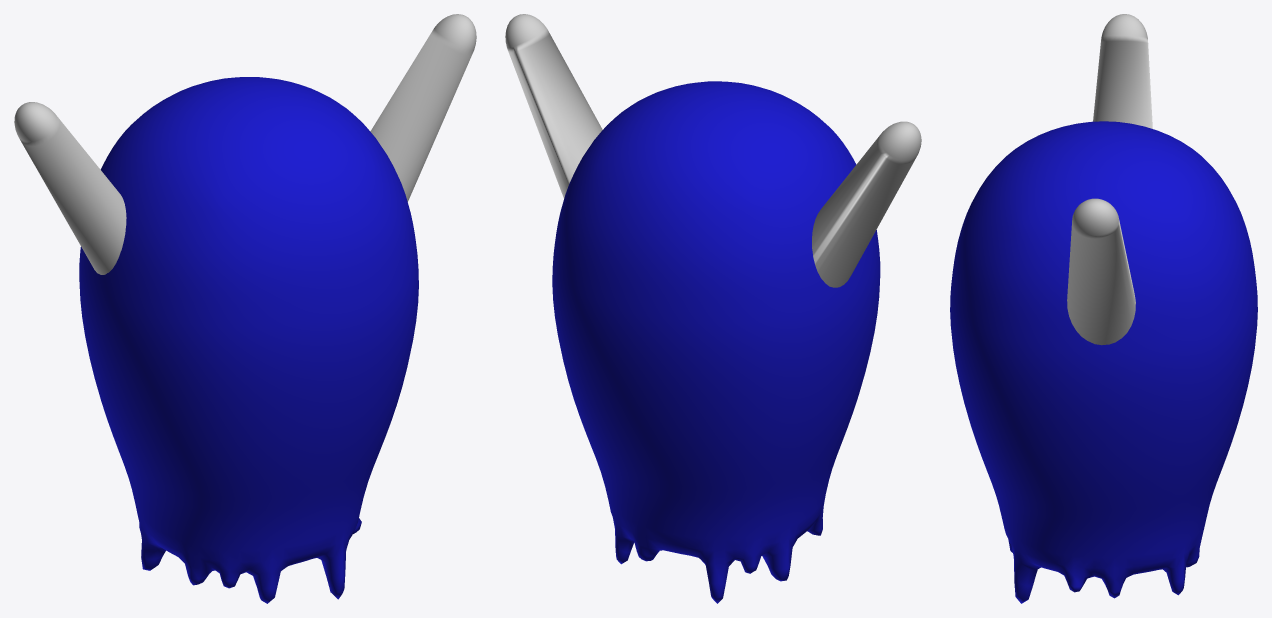
Rendered from beforeThrow_000025.obj.
3 views of the same model, side by side, from view 1: azimuth 30°, elevation 25°; view 2: azimuth 150°, elevation 25°; view 3: azimuth 270°, elevation 25° (orthographic). The views are drawn at different scales.
Parts seen in each view (by area): view 1: Cube, Sphere.001, Sphere; view 2: Cube, Sphere.001, Sphere; view 3: Cube, Sphere, Sphere.001.
Part boxes in pixels (box(x1,y1,x2,y2)): Cube: box(79, 77, 418, 603); Sphere.001: box(14, 102, 126, 274); Sphere: box(370, 14, 476, 201); Cube: box(552, 81, 880, 603); Sphere.001: box(812, 121, 921, 287); Sphere: box(505, 14, 602, 198); Cube: box(950, 121, 1257, 603); Sphere: box(1067, 198, 1135, 345); Sphere.001: box(1093, 14, 1152, 128).
Size of the model in its own units: 0.4352 by 0.4879 by 0.2859.
